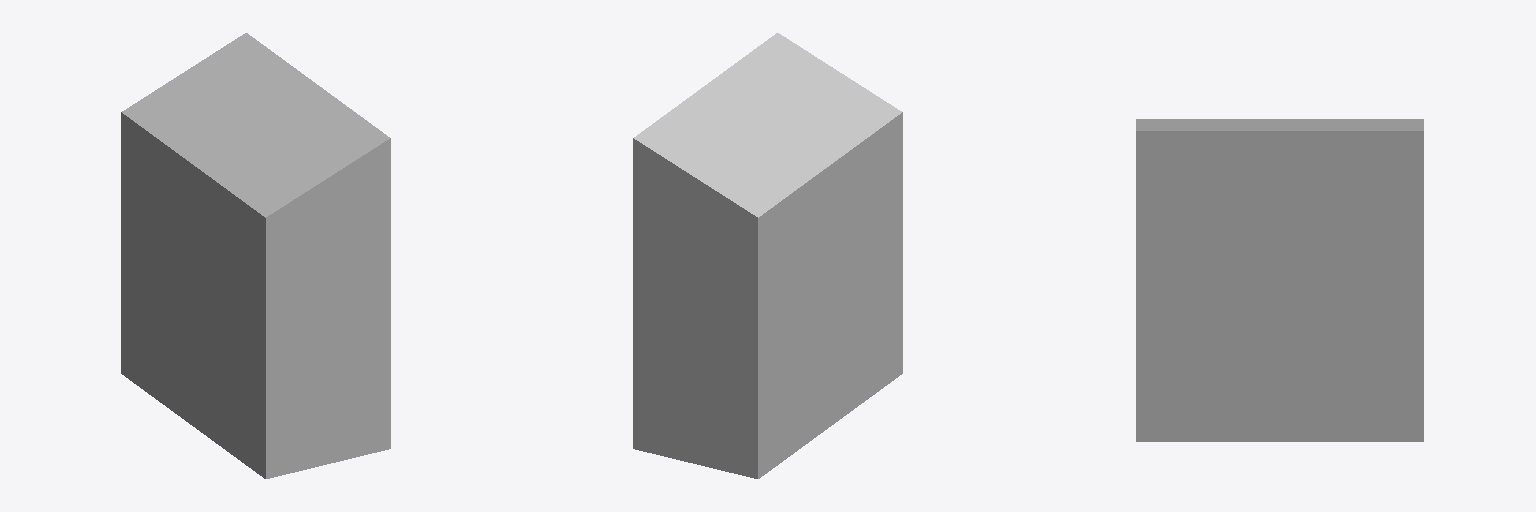
File: house_extension_1.obj
3 renders of one model, left to right at view 1: azimuth 30°, elevation 25°; view 2: azimuth 150°, elevation 25°; view 3: azimuth 270°, elevation 25°, orthographic.
Parts seen in each view (by area): view 1: Cube; view 2: Cube; view 3: Cube.
Boxes of the visible parts, box(x1,y1,x2,y2) form: Cube: box(121, 33, 390, 478); Cube: box(633, 33, 902, 478); Cube: box(1136, 119, 1423, 441).
Size of the model in its own units: 1 by 2.38 by 2.